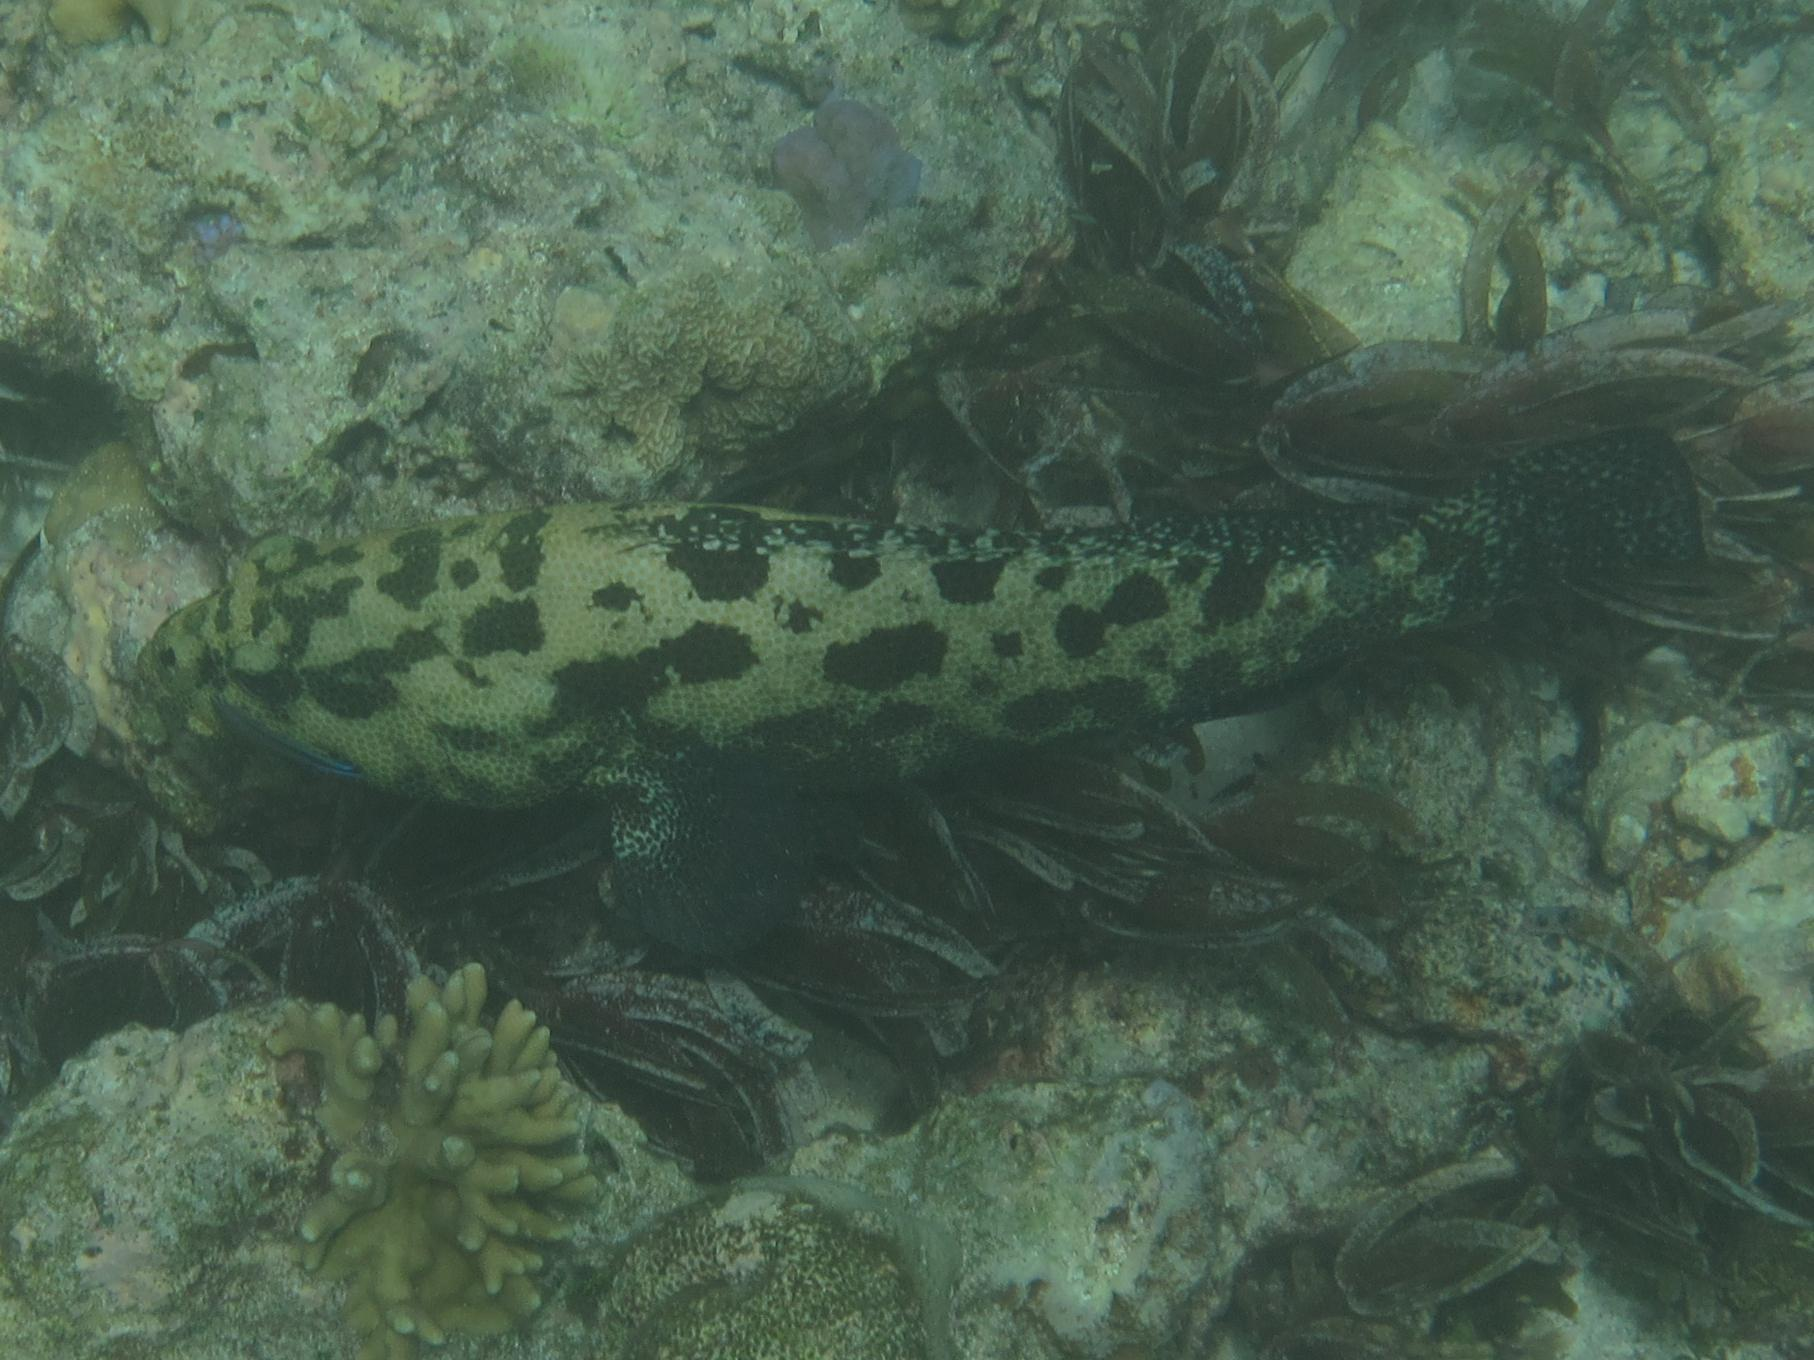Fish: (10, 369, 1763, 969)
